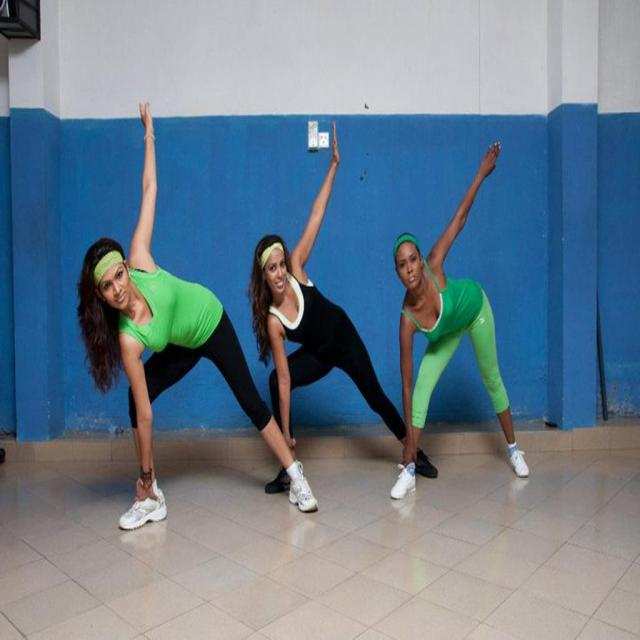Face: (95, 249, 127, 317), (262, 238, 296, 296), (390, 245, 426, 290)
